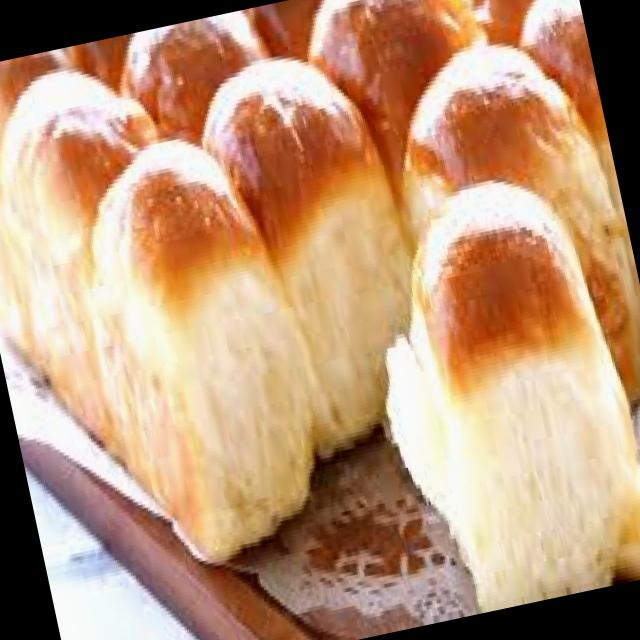organic: (0, 0, 640, 587)
paper: (233, 435, 475, 637)
